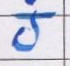anusvara: (26, 0, 35, 5)
